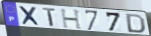7: (106, 11, 123, 32), (84, 9, 100, 31)
D: (126, 13, 147, 34)
H: (60, 8, 84, 30)
T: (42, 7, 58, 28)
X: (18, 6, 43, 27)
